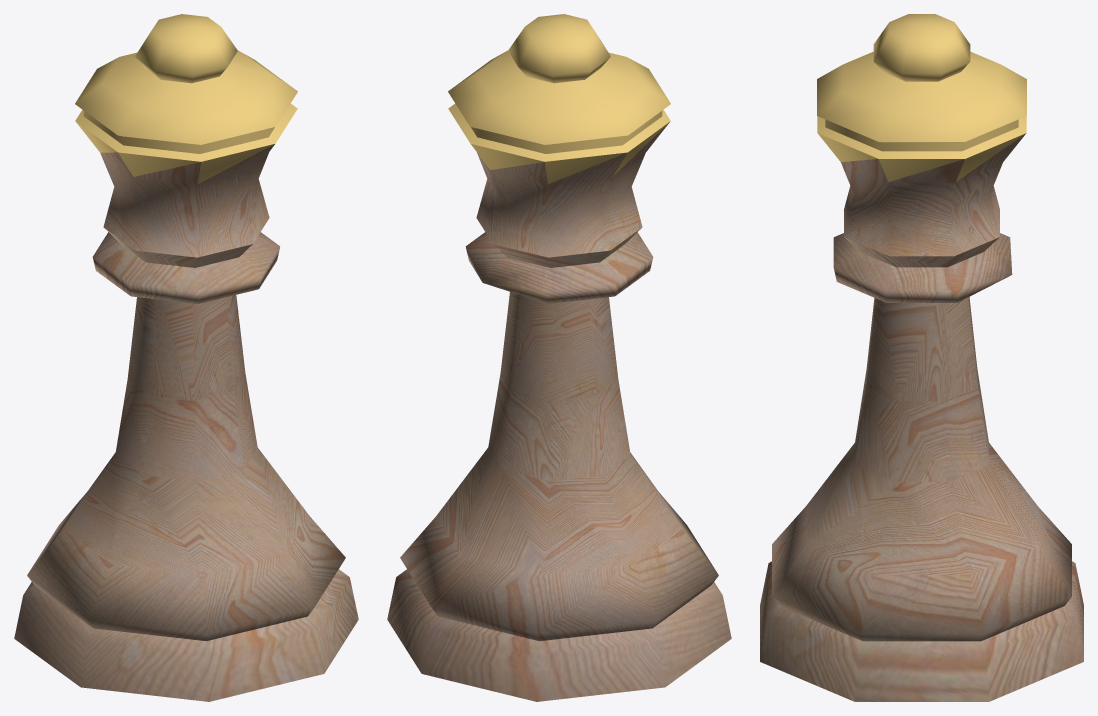
The model's file is gercek4_q_w.glb.
3 views of the same model, side by side, from view 1: azimuth 30°, elevation 25°; view 2: azimuth 150°, elevation 25°; view 3: azimuth 270°, elevation 25° (orthographic).
Visible parts, largest first — view 1: q; view 2: q; view 3: q.
Boxes of the visible parts, x1=… form: q: x1=14, y1=14, x2=358, y2=701; q: x1=387, y1=14, x2=731, y2=701; q: x1=760, y1=14, x2=1083, y2=701.
Bounding box in the file's own units: 0.4323 × 0.9 × 0.4323.
Materials: 2 (1 with a texture image).
